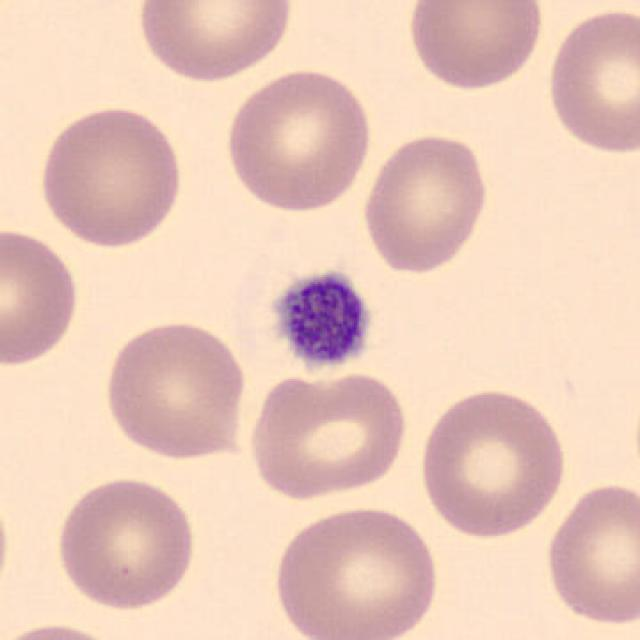Platelets: (266, 263, 378, 377)
RBC: (414, 383, 571, 541), (268, 500, 442, 640), (220, 64, 377, 215), (243, 367, 412, 504), (34, 100, 188, 250), (100, 316, 250, 462), (52, 472, 199, 614), (358, 129, 492, 277), (542, 3, 638, 158), (540, 478, 638, 629), (133, 0, 297, 85), (401, 0, 549, 93), (0, 222, 84, 370), (0, 619, 132, 640), (0, 478, 14, 617)
